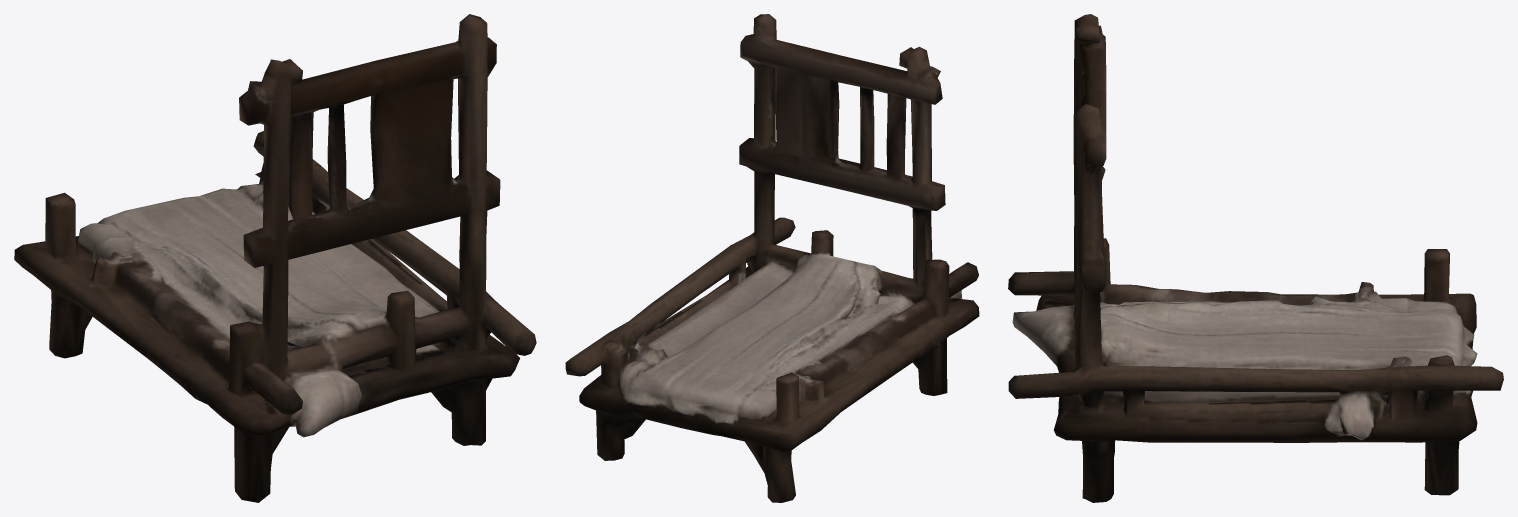
The model's file is cot.glb.
The picture shows the model from 3 angles, left to right: view 1: azimuth 30°, elevation 25°; view 2: azimuth 150°, elevation 25°; view 3: azimuth 270°, elevation 25°; orthographic projection. The views are drawn at different scales.
Visible parts, largest first — view 1: cot; view 2: cot; view 3: cot.
Part boxes in pixels (<box>): cot: <box>14,14,536,502</box>; cot: <box>565,14,979,502</box>; cot: <box>1008,14,1503,502</box>.
Size of the model in its own units: 1.36 by 1.85 by 2.1.
Materials: 1 (1 with a texture image).
